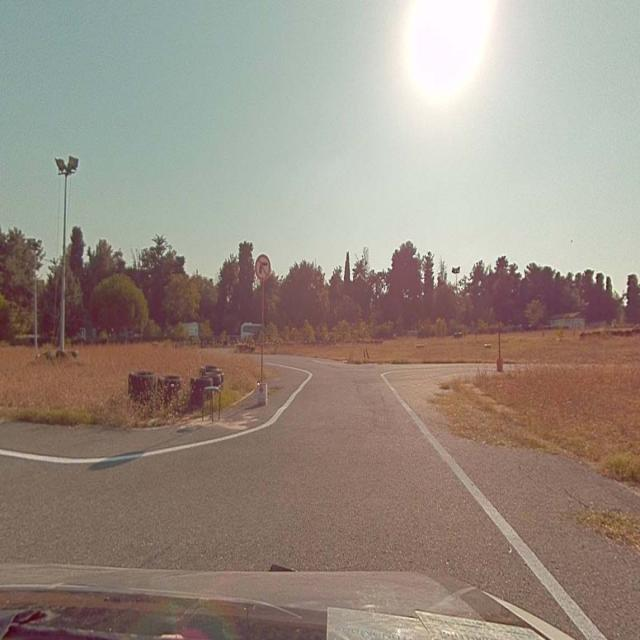sagadonulmez: (255, 254, 270, 278)
